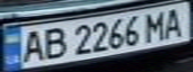2: (69, 21, 93, 56), (90, 18, 112, 53)
6: (121, 12, 148, 46), (106, 16, 130, 51)
A: (15, 28, 48, 64), (157, 6, 190, 38)
B: (36, 25, 69, 61)
M: (139, 8, 172, 42)
